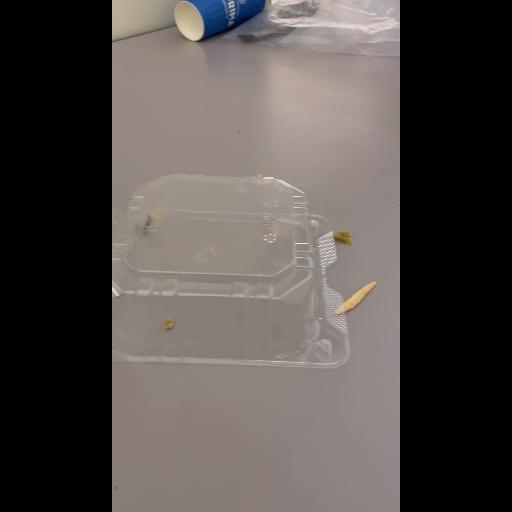small_plastic_container: (112, 170, 352, 376)
